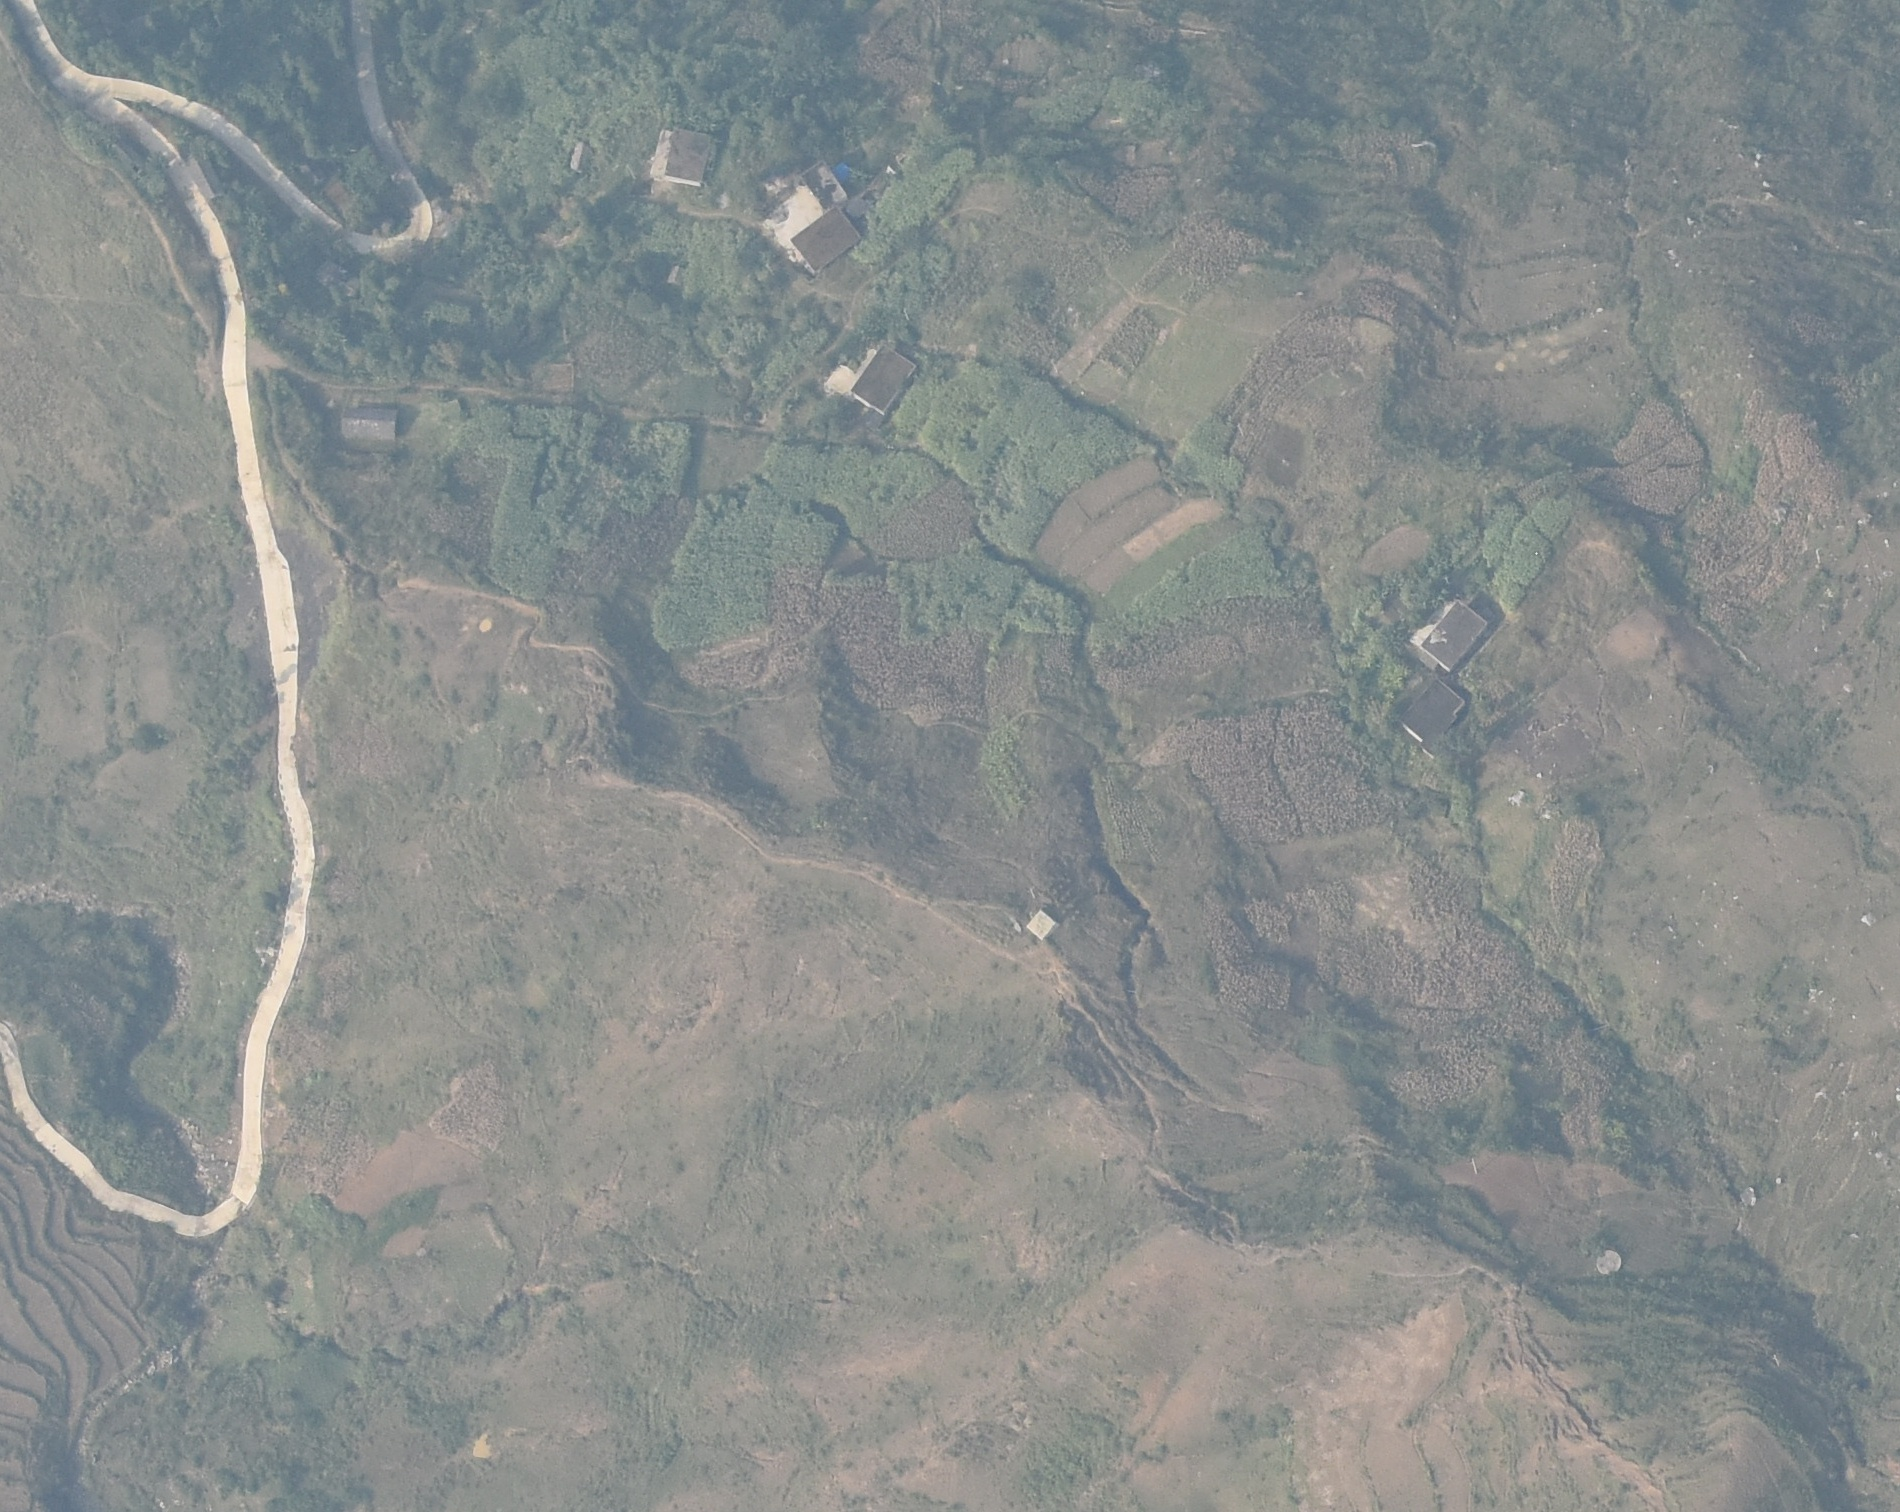building: (1402, 671, 1479, 754), (845, 334, 922, 415), (649, 119, 718, 198), (794, 204, 871, 272), (1417, 596, 1488, 669), (335, 392, 401, 447), (1021, 910, 1062, 942)
well: (1593, 1248, 1626, 1278)
